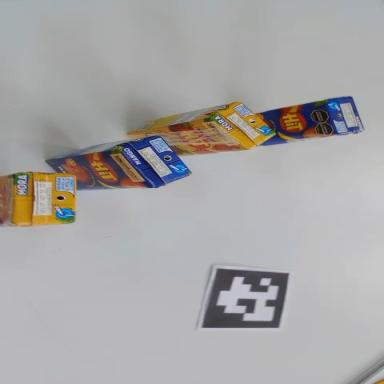HIT-MANGO: (46, 134, 191, 190), (258, 94, 364, 145)
HIT-MORA: (126, 98, 276, 161), (0, 171, 77, 227)
cara_F: (127, 114, 248, 162), (45, 147, 155, 192), (256, 99, 337, 144), (0, 175, 15, 225)
